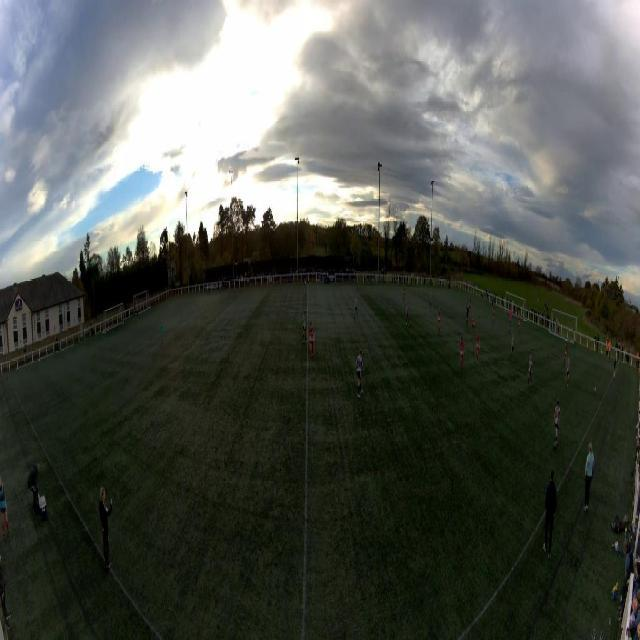ball: (594, 386, 596, 392)
player: (553, 398, 561, 449), (356, 347, 364, 396), (309, 322, 315, 357), (301, 310, 307, 344), (459, 336, 464, 371), (528, 355, 533, 387), (566, 356, 571, 388), (476, 332, 480, 364), (406, 301, 411, 326), (354, 295, 359, 319), (511, 332, 515, 361), (437, 307, 441, 334), (160, 319, 164, 344), (564, 343, 568, 365), (492, 304, 495, 324), (471, 316, 476, 327), (518, 316, 521, 334), (466, 306, 469, 324), (469, 297, 472, 314), (509, 318, 512, 335), (510, 307, 512, 325), (403, 285, 405, 302), (430, 291, 432, 308)
